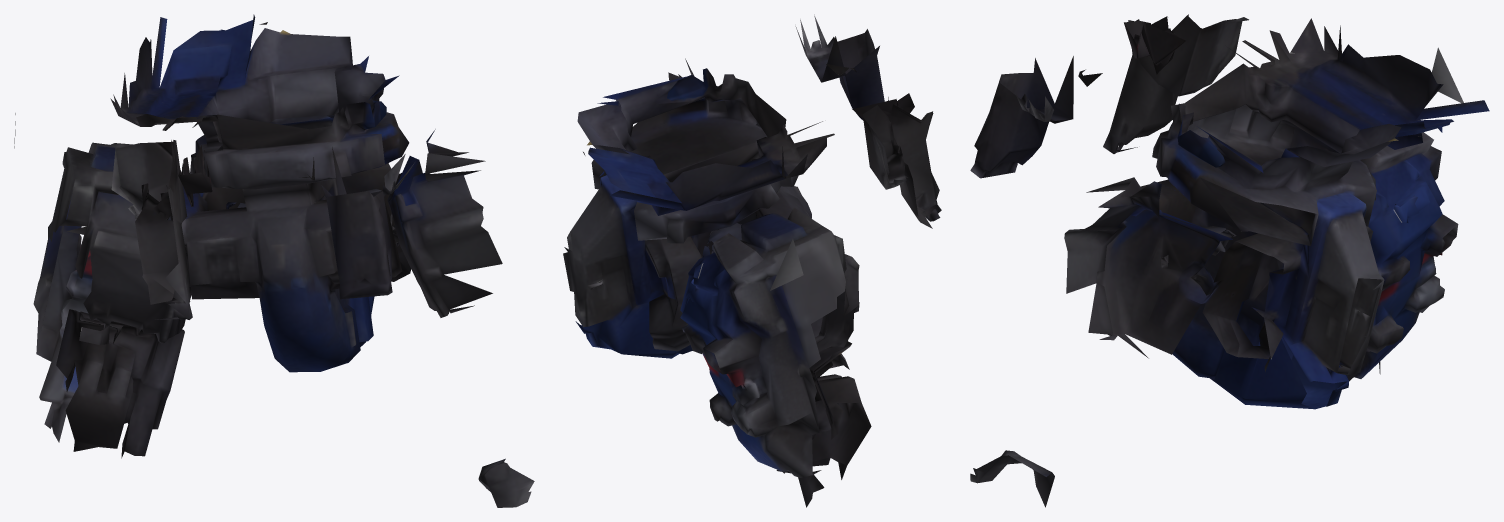
Rendered from blue_arm_left_lower.glb.
3 views of the same model, side by side, from view 1: azimuth 30°, elevation 25°; view 2: azimuth 150°, elevation 25°; view 3: azimuth 270°, elevation 25° (orthographic). The views are drawn at different scales.
Visible parts, largest first — view 1: blue_arm_left_lower; view 2: blue_arm_left_lower; view 3: blue_arm_left_lower.
Boxes of the visible parts, box(x1,y1,x2,y2) form: blue_arm_left_lower: box(14, 14, 534, 507); blue_arm_left_lower: box(563, 14, 941, 507); blue_arm_left_lower: box(970, 14, 1489, 507).
Bounding box in the file's own units: 1.52 × 1.71 × 2.12.
Materials: 1 (1 with a texture image).
